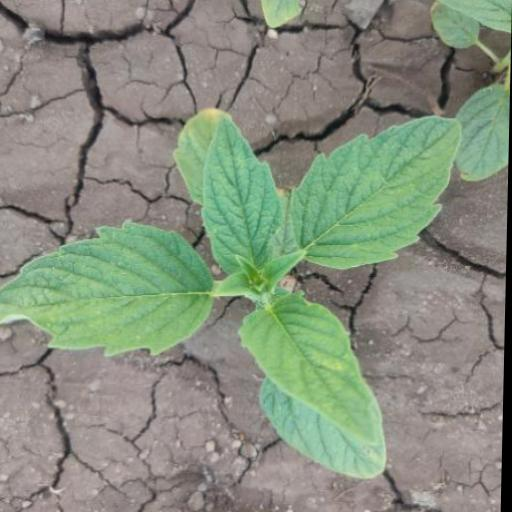crop: (0, 95, 471, 487)
